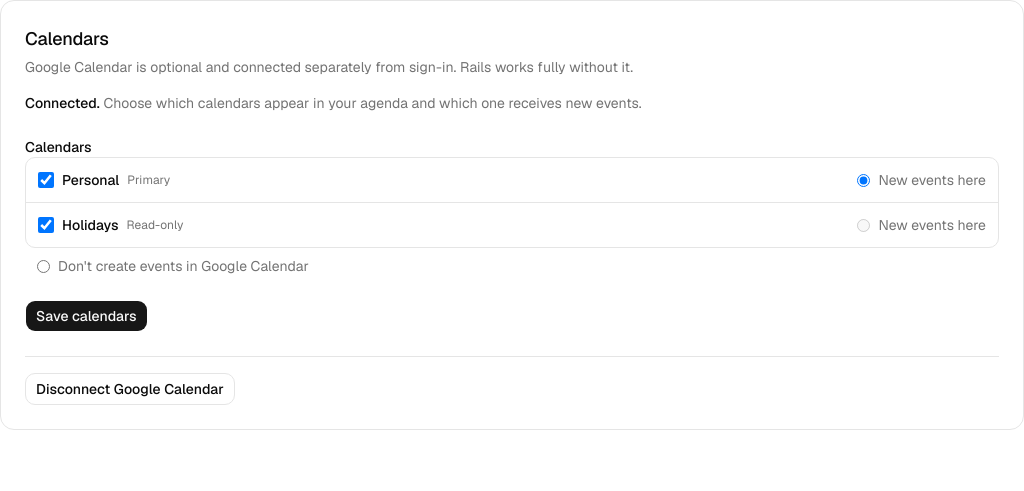
it: CalendarSettings — connected › does not claim Calendar was disconnected when the server refuses
Click the button "Disconnect Google Calendar".
click(130, 389)  # box [25,373,235,405]
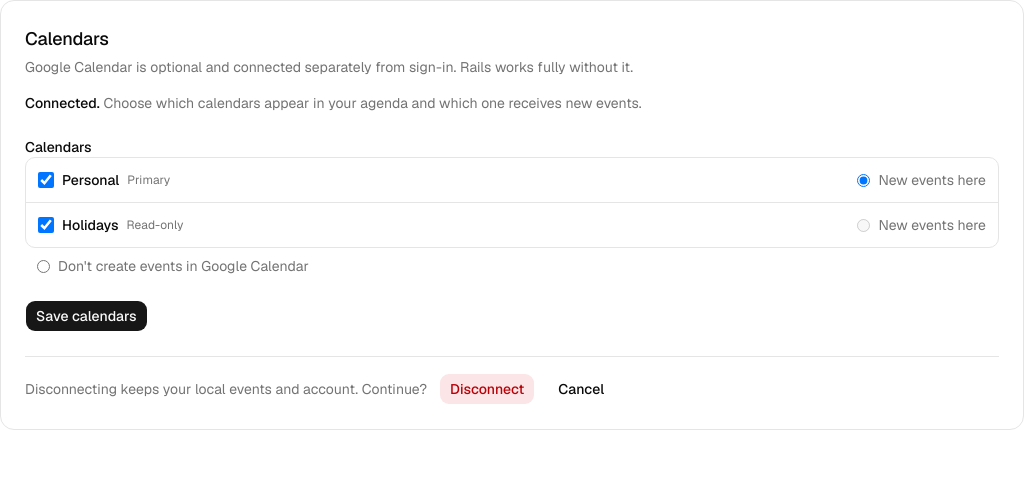
Click the button "Disconnect".
click(487, 389)  # box [439,373,535,405]
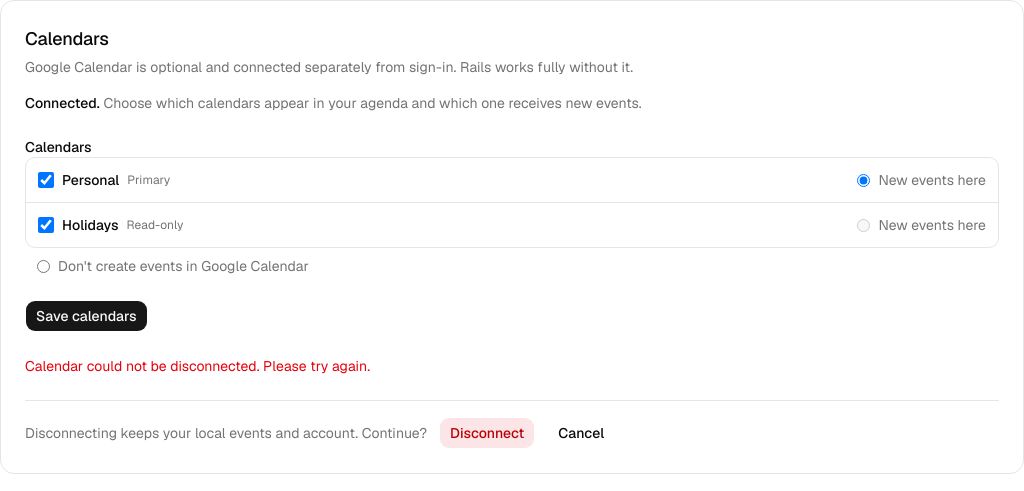
Now the element named "Confirm disconnect" is shown, box [25,417,615,449]
Now the message "Calendar could not be disconnected. Please try again." is shown, box [25,357,370,375]
